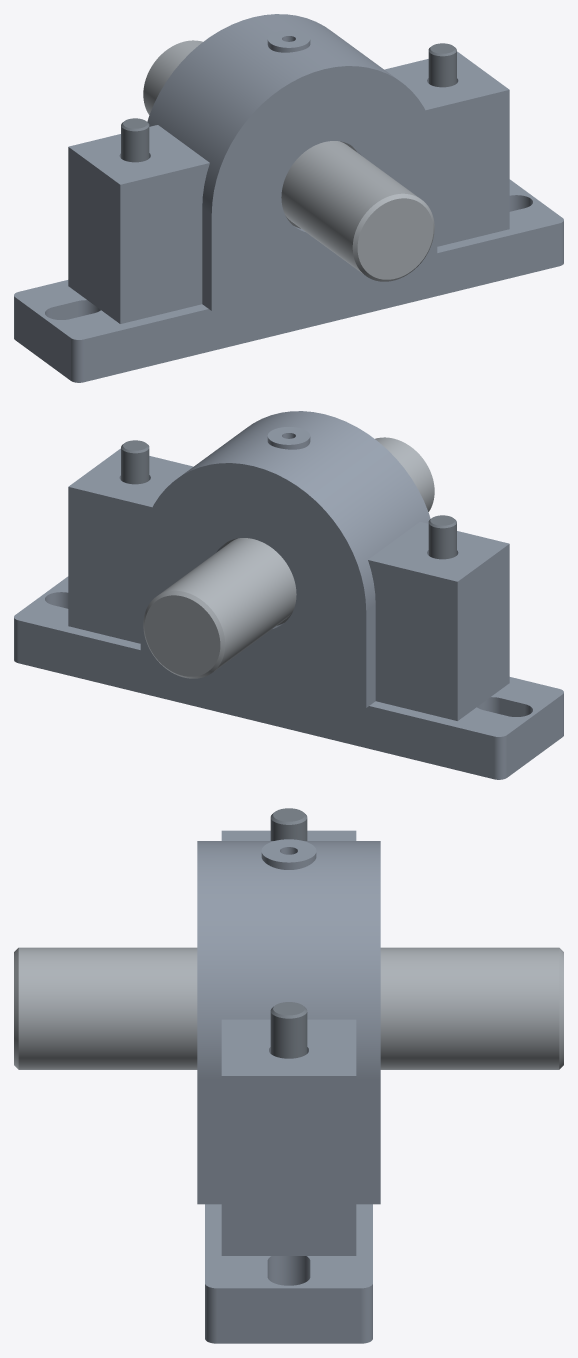
Rendered from step_25.glb.
The picture shows the model from 3 angles, top to bottom: view 1: azimuth 30°, elevation 25°; view 2: azimuth 150°, elevation 25°; view 3: azimuth 270°, elevation 25°; orthographic projection. The views are drawn at different scales.
Parts seen in each view (by area): view 1: part__housing base, part__housing cap, part__shaft, part__stud 1, part__stud 2; view 2: part__housing base, part__housing cap, part__shaft, part__stud 1, part__stud 2; view 3: part__housing cap, part__shaft, part__housing base, part__stud 1, part__stud 2.
Boxes of the visible parts, left/top/right/bottom form: part__housing base: left=14, top=132, right=563, bottom=382; part__housing cap: left=68, top=14, right=509, bottom=227; part__shaft: left=143, top=40, right=434, bottom=281; part__stud 1: left=428, top=43, right=456, bottom=87; part__stud 2: left=121, top=118, right=149, bottom=162; part__housing base: left=14, top=529, right=563, bottom=779; part__housing cap: left=68, top=411, right=509, bottom=624; part__shaft: left=143, top=437, right=434, bottom=678; part__stud 1: left=121, top=440, right=149, bottom=484; part__stud 2: left=428, top=515, right=456, bottom=559; part__housing cap: left=197, top=830, right=380, bottom=1131; part__shaft: left=14, top=947, right=563, bottom=1069; part__housing base: left=197, top=1079, right=380, bottom=1343; part__stud 1: left=270, top=1002, right=307, bottom=1058; part__stud 2: left=270, top=808, right=307, bottom=840.
Size of the model in its own units: 240 by 122 by 180.
